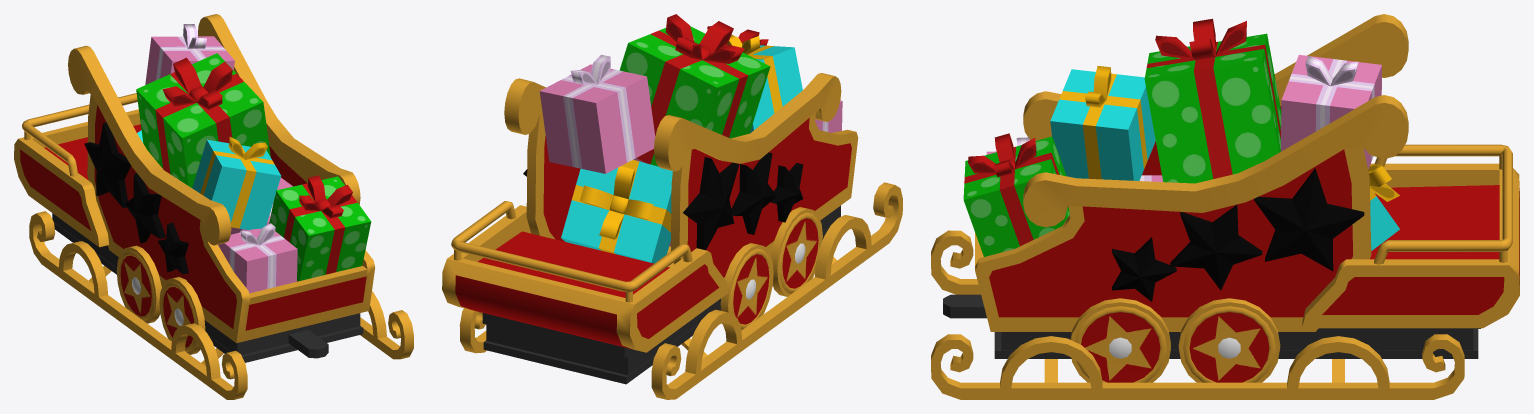
Rendered from TrainMobhcB_Prefab.fbx.
3 renders of one model, left to right at view 1: azimuth 30°, elevation 25°; view 2: azimuth 150°, elevation 25°; view 3: azimuth 270°, elevation 25°, orthographic. The views are drawn at different scales.
Visible parts, largest first — view 1: Body_LOD0, B_Wheel_02_Body_LOD0, B_Wheel_01_Body_LOD0; view 2: Body_LOD0, B_Wheel_01_Body_LOD0, B_Wheel_02_Body_LOD0; view 3: Body_LOD0, B_Wheel_02_Body_LOD0, B_Wheel_01_Body_LOD0.
Boxes of the visible parts, box(x1,y1,x2,y2) form: Body_LOD0: box(14, 14, 413, 399); B_Wheel_02_Body_LOD0: box(116, 245, 161, 323); B_Wheel_01_Body_LOD0: box(159, 277, 205, 354); Body_LOD0: box(442, 14, 902, 399); B_Wheel_01_Body_LOD0: box(771, 207, 822, 296); B_Wheel_02_Body_LOD0: box(720, 243, 773, 330); Body_LOD0: box(931, 14, 1519, 399); B_Wheel_02_Body_LOD0: box(1178, 298, 1280, 382); B_Wheel_01_Body_LOD0: box(1070, 298, 1170, 382).
Size of what is drawn, in the model's own units: 9.92 by 13.31 by 22.56.
